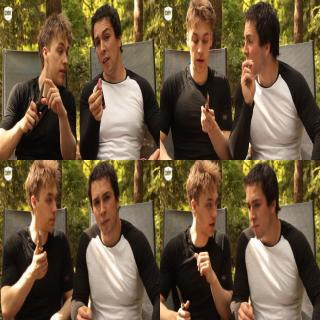knife: (30, 76, 46, 130), (31, 221, 49, 269), (92, 59, 106, 115), (197, 86, 214, 124), (174, 281, 190, 319)
